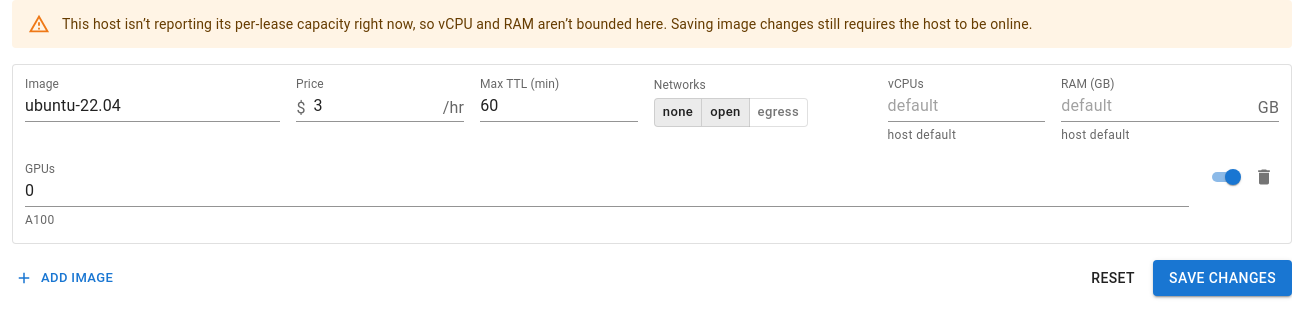
HostImagesEditor › blocks saving gpus above the host's capacity (gpu_count)
The width and height of the screenshot is (1304, 316).
In the number field named "gpus for ubuntu-22.04": {"x": 607, "y": 192} [25, 178, 1189, 207], type "2"
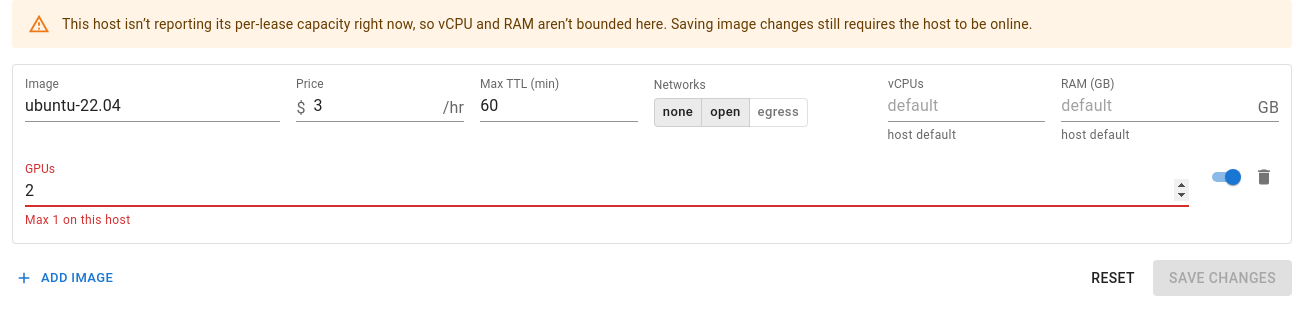
Now the text "Max 1 on this host" is shown, box [25, 213, 130, 227]
Now the button "Save changes" is disabled, box [1153, 260, 1292, 296]
